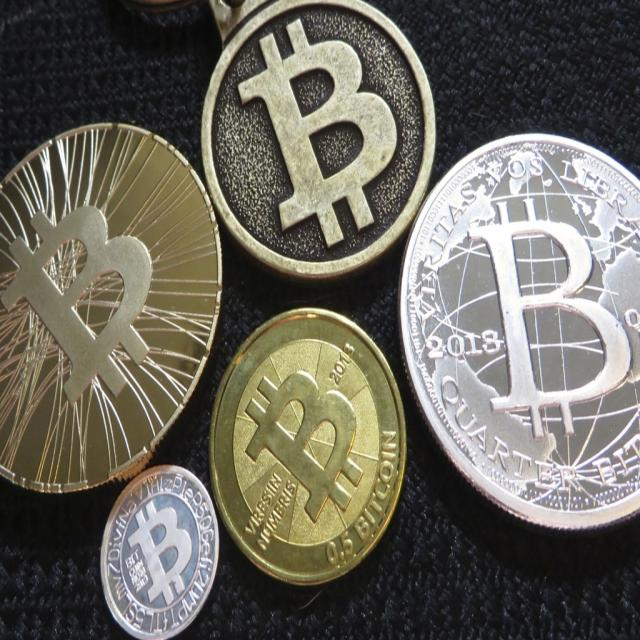Coin: (397, 127, 640, 539), (0, 120, 224, 497), (198, 0, 442, 281), (206, 308, 406, 590), (96, 463, 220, 639)
